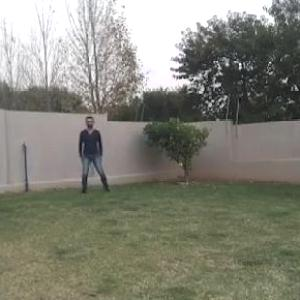follow: (80, 116, 98, 188)
